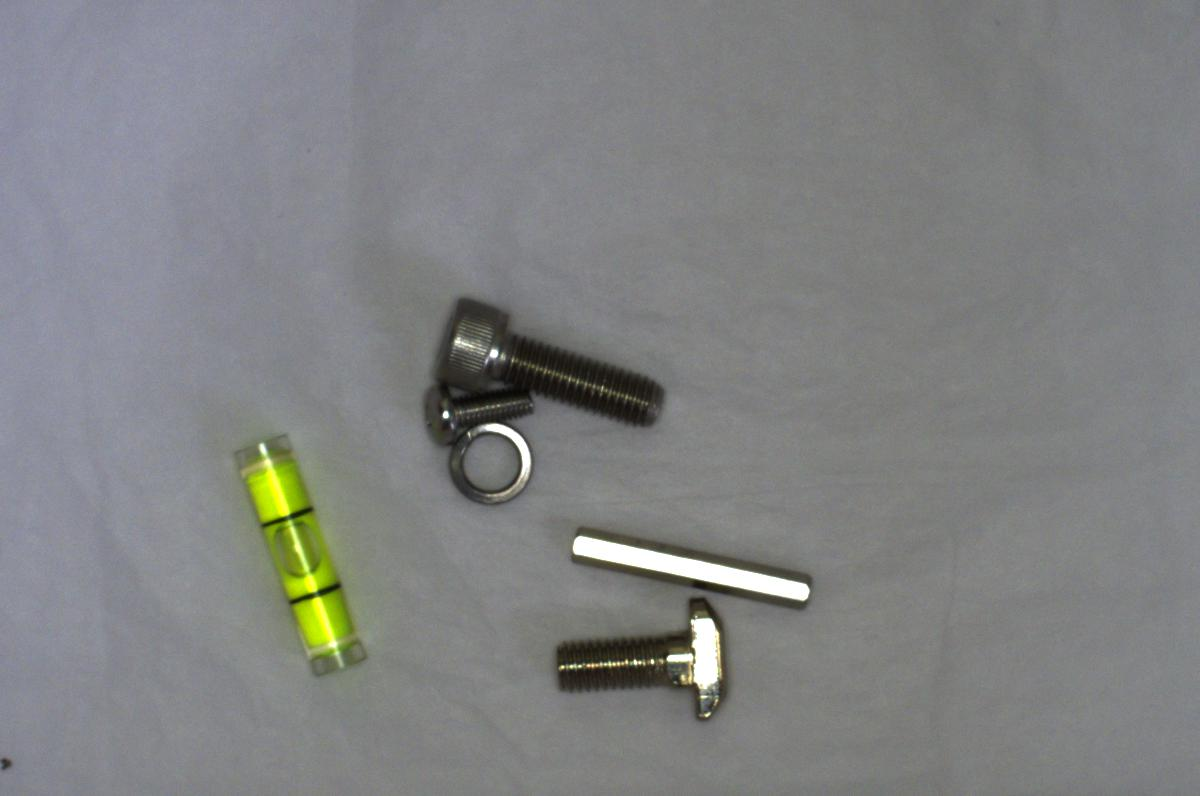Double hexagonal column: (565, 523, 819, 609)
Hexagon screw: (439, 298, 679, 430)
Horizontal bubble: (224, 425, 370, 683)
Round head screw: (417, 380, 541, 441)
Spring washer: (444, 423, 537, 514)
T-shaped screw: (548, 598, 742, 728)
